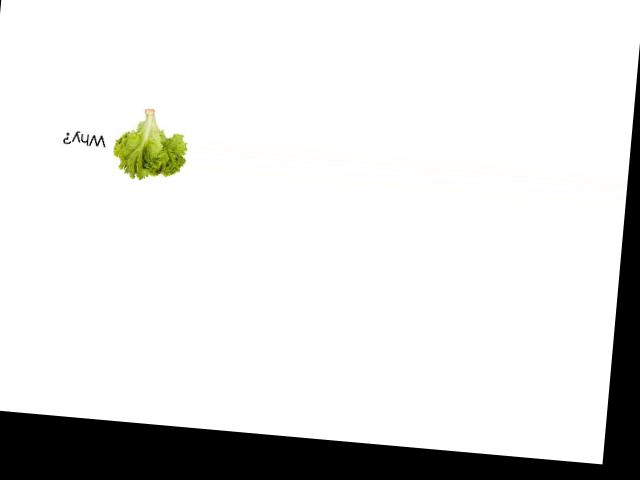lettuce: (104, 104, 192, 184)
